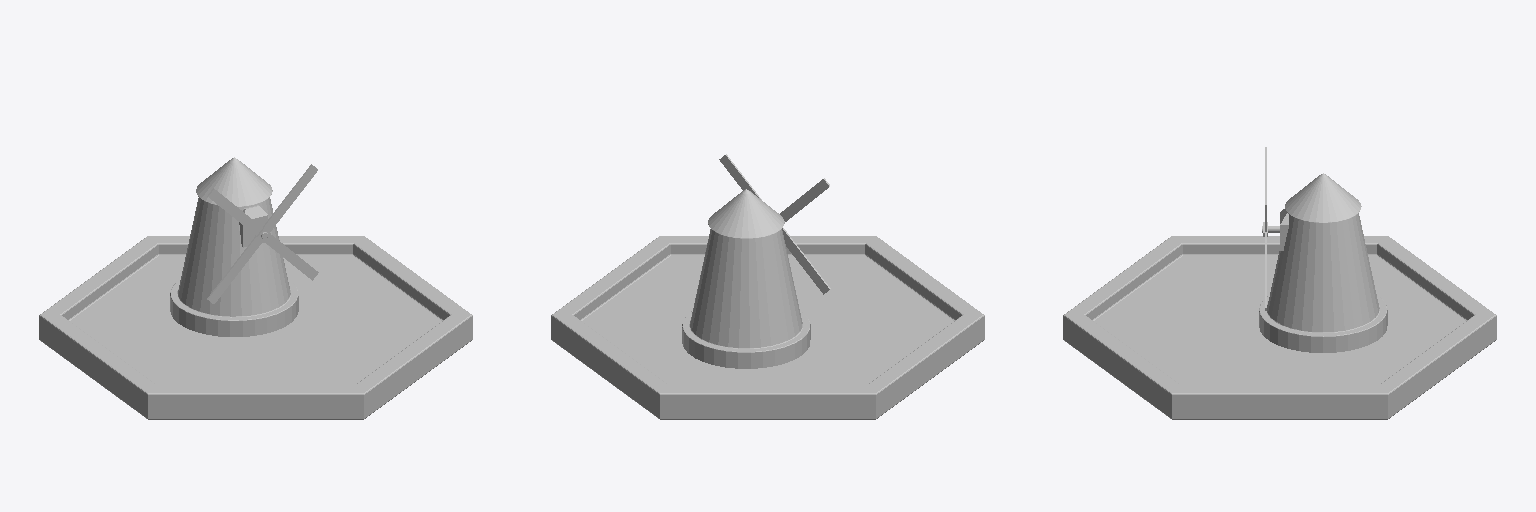
The model's file is Windmill.obj.
The picture shows the model from 3 angles: view 1: azimuth 30°, elevation 25°; view 2: azimuth 150°, elevation 25°; view 3: azimuth 270°, elevation 25°; orthographic projection.
Visible parts, largest first — view 1: Cube.006_Cube.007; view 2: Cube.006_Cube.007; view 3: Cube.006_Cube.007.
Boxes of the visible parts, box(x1,y1,x2,y2) form: Cube.006_Cube.007: box(39, 157, 472, 419); Cube.006_Cube.007: box(551, 154, 984, 419); Cube.006_Cube.007: box(1063, 147, 1496, 419).
Bounding box in the file's own units: 1.73 × 0.8623 × 2.